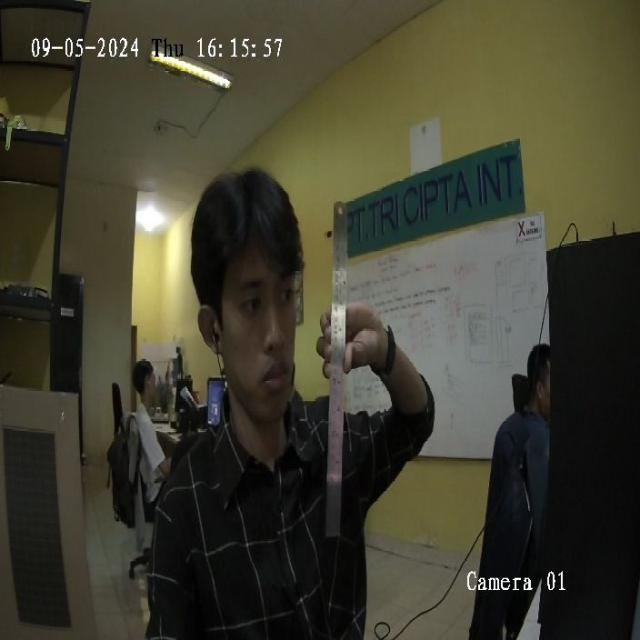Ruler: (325, 203, 346, 537)
